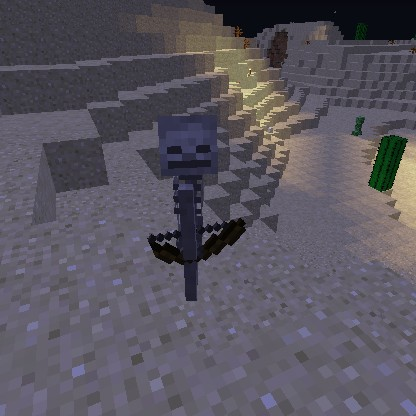skeleton: (152, 113, 226, 301)
